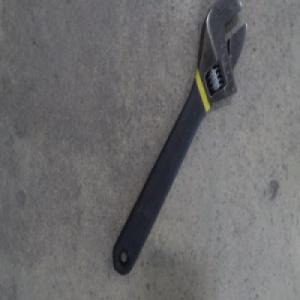AdjustableWrench: (112, 7, 246, 274)
